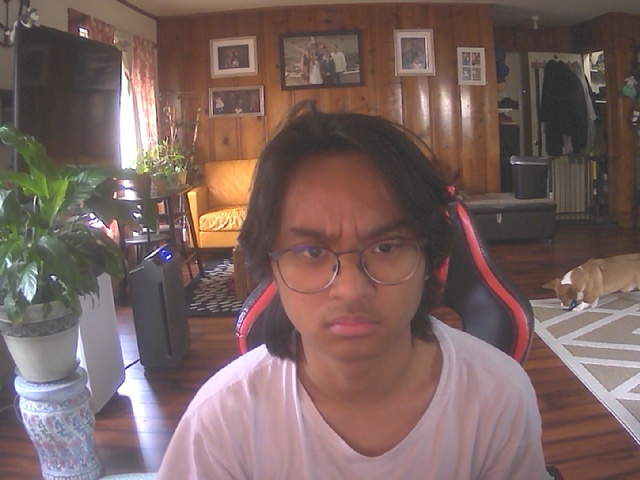anger: (265, 120, 434, 367)
